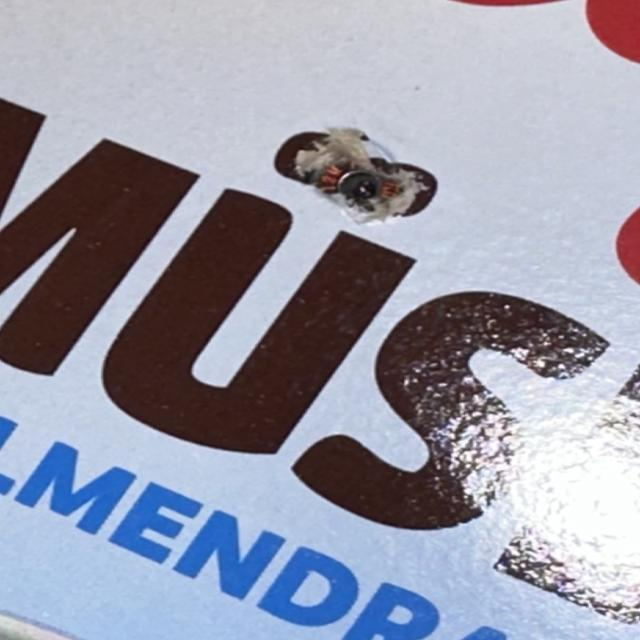hidden camera: (319, 156, 402, 211)
